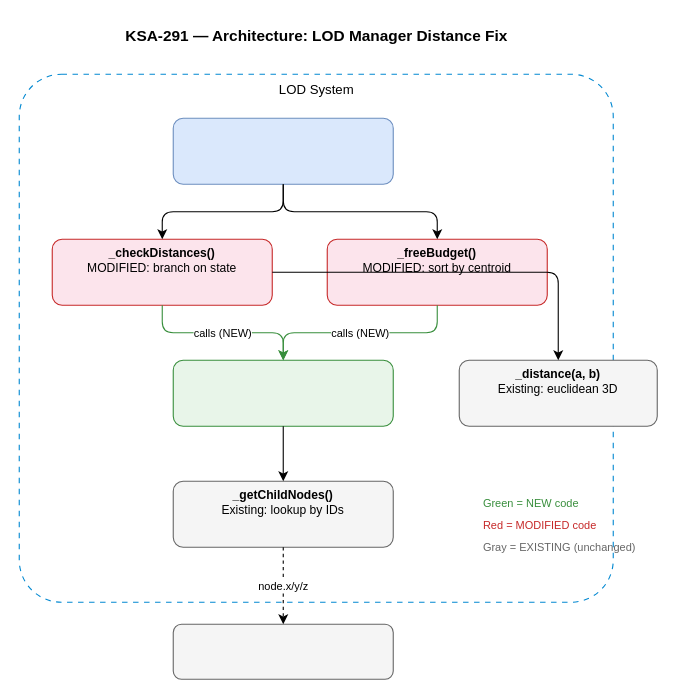
This 677x699 diagram has some shape labels left out. The centre of each missing label's shape, as x and y in pixels:
_getExpandedCentroid() NEW: avg(child.x/y/z): point 282,392
ForceGraph3D External library: point 282,651
LODManager Orchestrates LOD lifecycle: point 282,150
